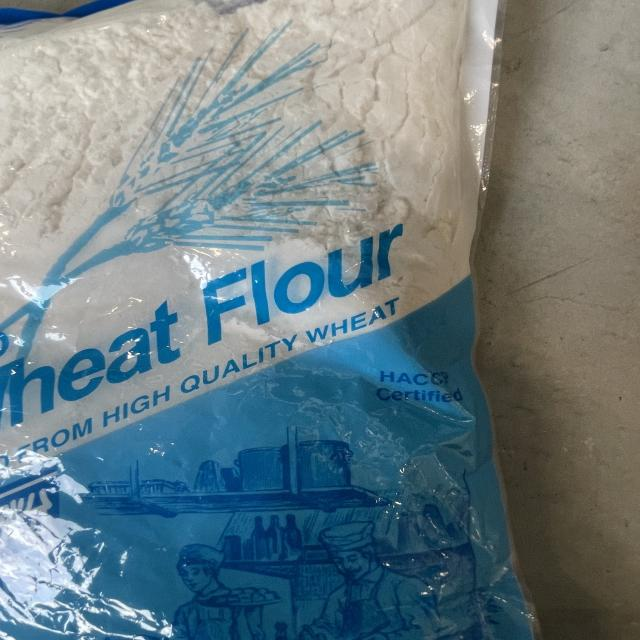object_name: (6, 6, 481, 636)
